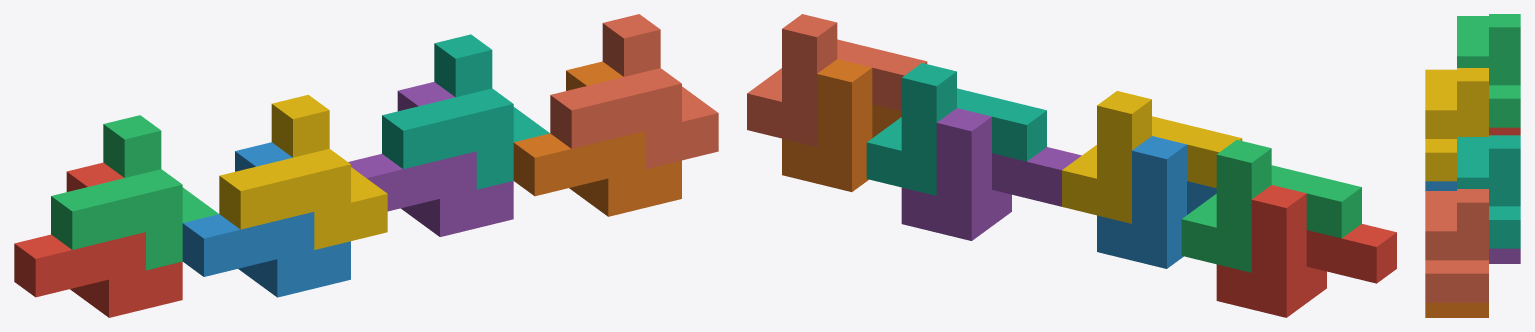
Rendered from tiling.obj.
The picture shows the model from 3 angles, left to right: view 1: azimuth 30°, elevation 25°; view 2: azimuth 150°, elevation 25°; view 3: azimuth 270°, elevation 25°; orthographic projection. The views are drawn at different scales.
Visible parts, largest first — view 1: copy_1_domain_8, copy_1_domain_4, copy_1_domain_7, copy_1_domain_3, copy_1_domain_2, copy_1_domain_1, copy_1_domain_6, copy_1_domain_5; view 2: copy_1_domain_1, copy_1_domain_5, copy_1_domain_3, copy_1_domain_7, copy_1_domain_8, copy_1_domain_4, copy_1_domain_6, copy_1_domain_2; view 3: copy_1_domain_8, copy_1_domain_4, copy_1_domain_3, copy_1_domain_7, copy_1_domain_6, copy_1_domain_5, copy_1_domain_2, copy_1_domain_1.
Part boxes in pixels (box(x1,y1,x2,y2)): copy_1_domain_8: box(550, 14, 718, 169); copy_1_domain_4: box(219, 94, 387, 249); copy_1_domain_7: box(382, 34, 549, 189); copy_1_domain_3: box(51, 115, 218, 270); copy_1_domain_2: box(182, 142, 350, 297); copy_1_domain_1: box(14, 162, 182, 317); copy_1_domain_6: box(513, 61, 681, 216); copy_1_domain_5: box(348, 82, 513, 236); copy_1_domain_1: box(1216, 185, 1396, 317); copy_1_domain_5: box(901, 108, 1081, 240); copy_1_domain_3: box(1181, 140, 1361, 272); copy_1_domain_7: box(866, 63, 1046, 195); copy_1_domain_8: box(747, 14, 927, 146); copy_1_domain_4: box(1062, 91, 1242, 223); copy_1_domain_6: box(782, 59, 901, 191); copy_1_domain_2: box(1097, 136, 1216, 268); copy_1_domain_8: box(1425, 189, 1488, 302); copy_1_domain_4: box(1425, 68, 1488, 181); copy_1_domain_3: box(1457, 14, 1520, 127); copy_1_domain_7: box(1457, 135, 1520, 248); copy_1_domain_6: box(1425, 302, 1488, 317); copy_1_domain_5: box(1489, 248, 1520, 263); copy_1_domain_2: box(1425, 181, 1456, 190); copy_1_domain_1: box(1489, 127, 1520, 135).
Size of the model in its own units: 18 by 4 by 3.
